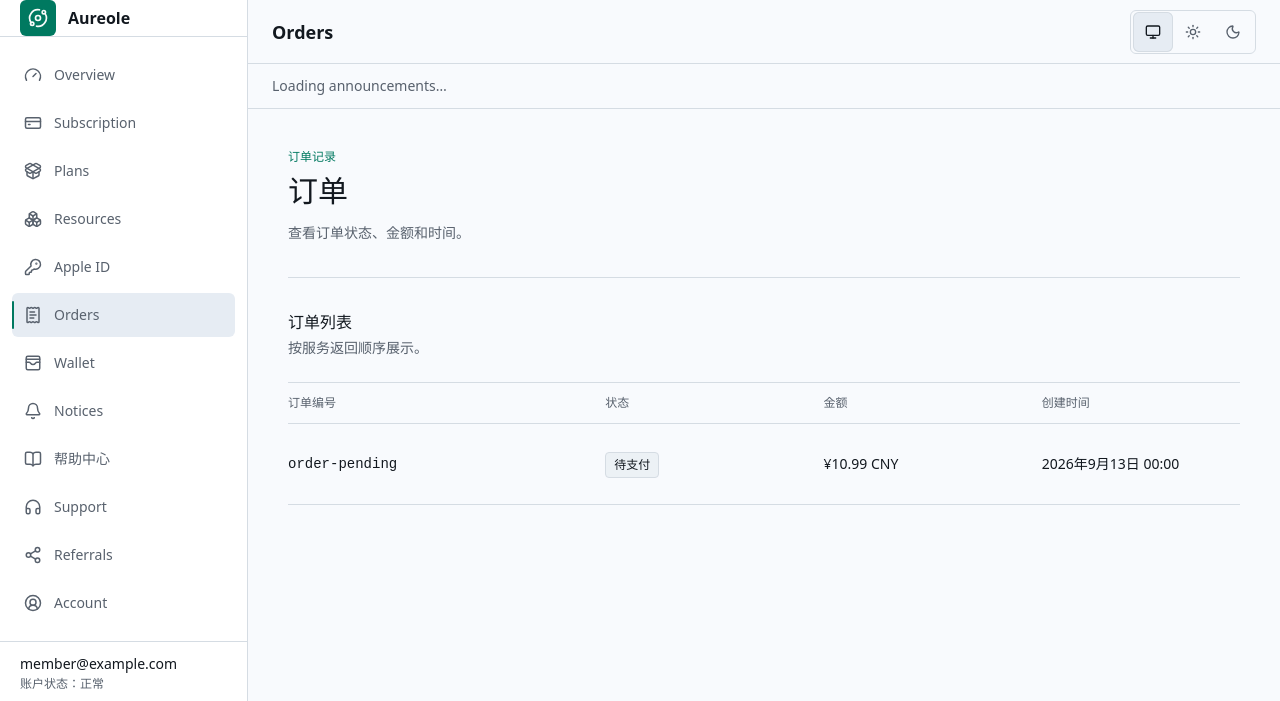
Order Cancel flow › prevents same-tick duplicate Cancel and refreshes Detail/List after success
This screenshot has width=1280, height=701.
What coordinates should you click on to do the following:
click the button "order-pending 待支付 ¥10.99 CNY 2026年9月13日 00:00"
I would click on:
 (343, 464)
Its box is [288, 424, 1240, 504].
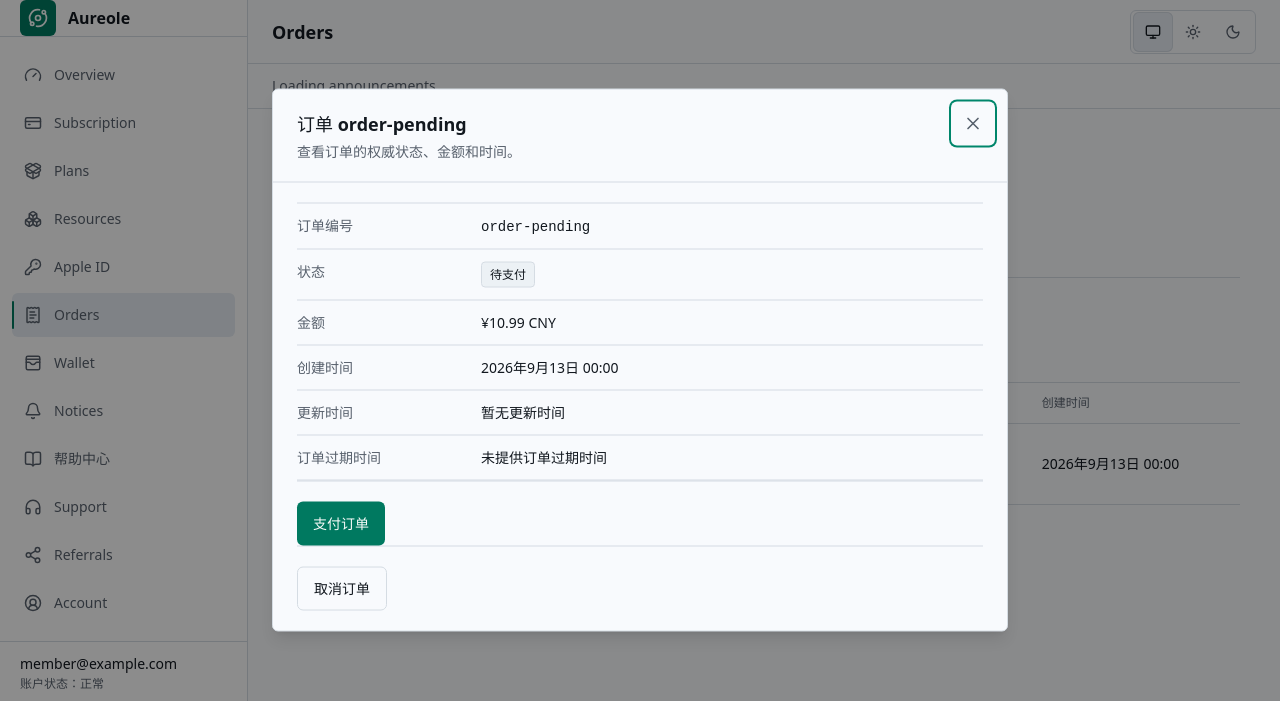
Now the heading "订单 order-pending" is shown, box [297, 112, 467, 136]
What coordinates should you click on to do the following:
click the button "取消订单"
I would click on:
 (342, 588)
Its box is [297, 566, 387, 610].
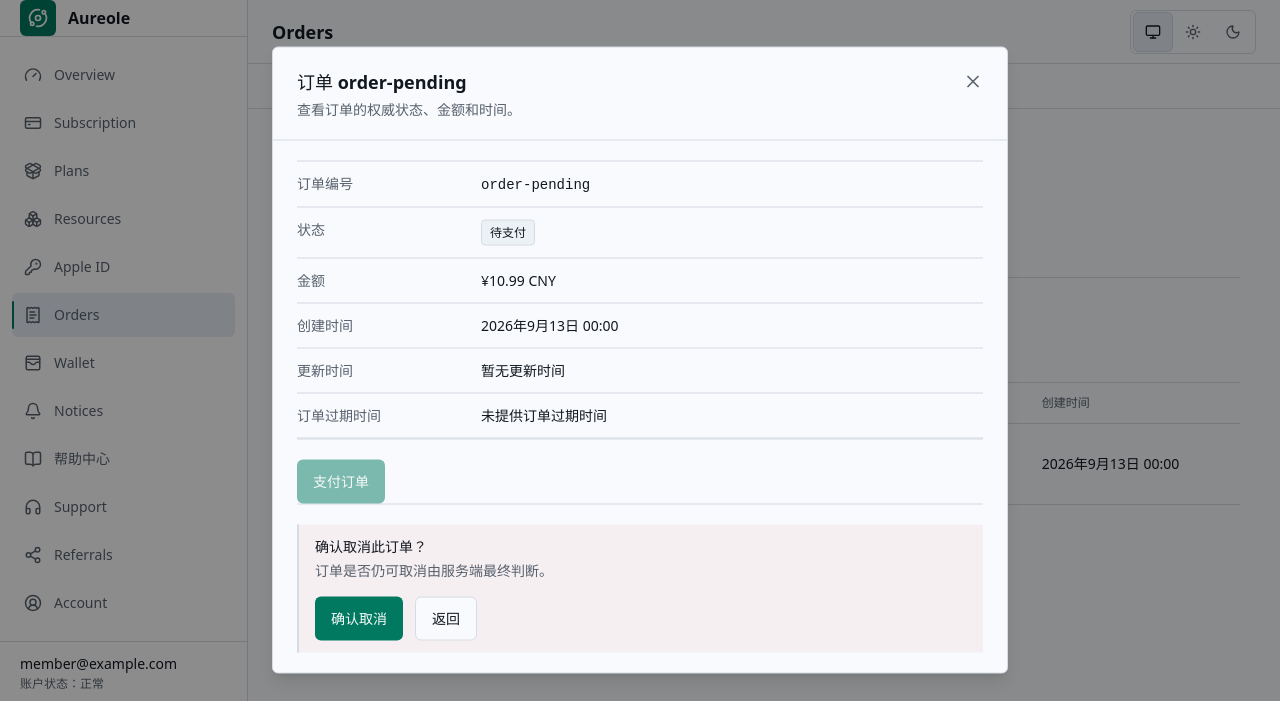
What coordinates should you click on to do the following:
click the button "确认取消"
I would click on:
 (359, 618)
Its box is [315, 596, 403, 640].
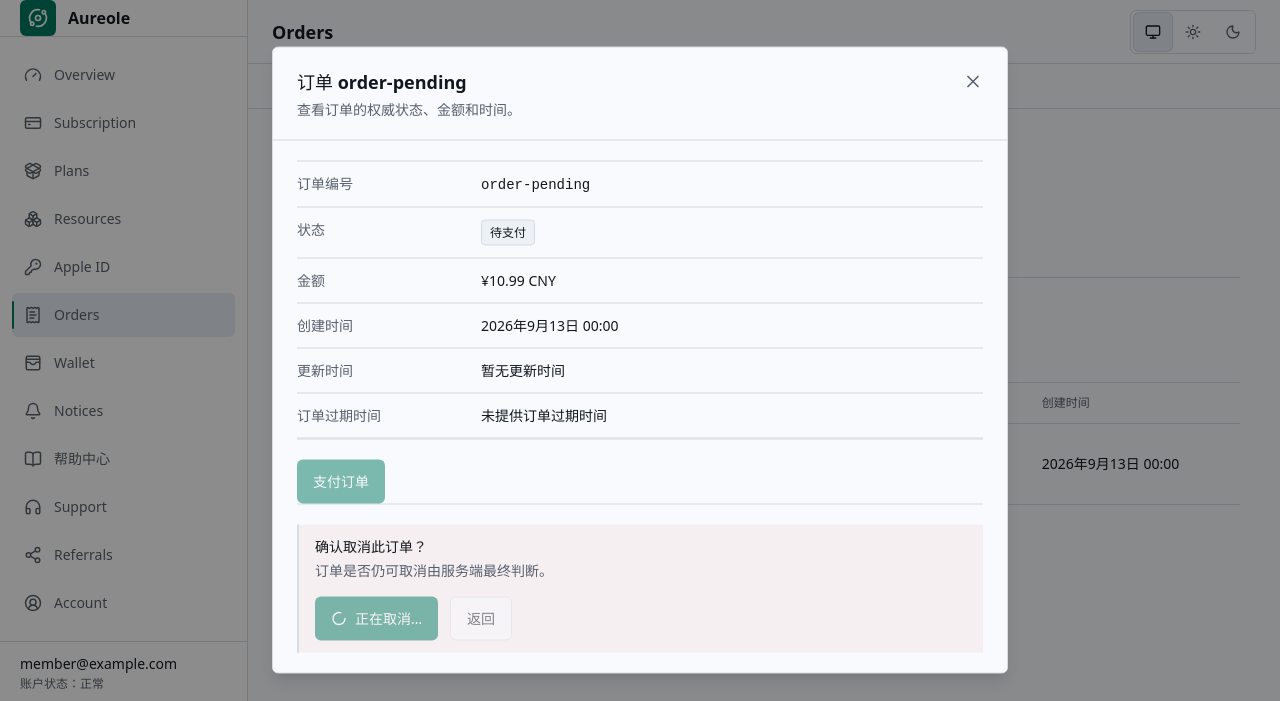
What coordinates should you click on to do the following:
click the button named "确认取消"
I would click on:
 (377, 618)
Its box is [315, 596, 438, 640].
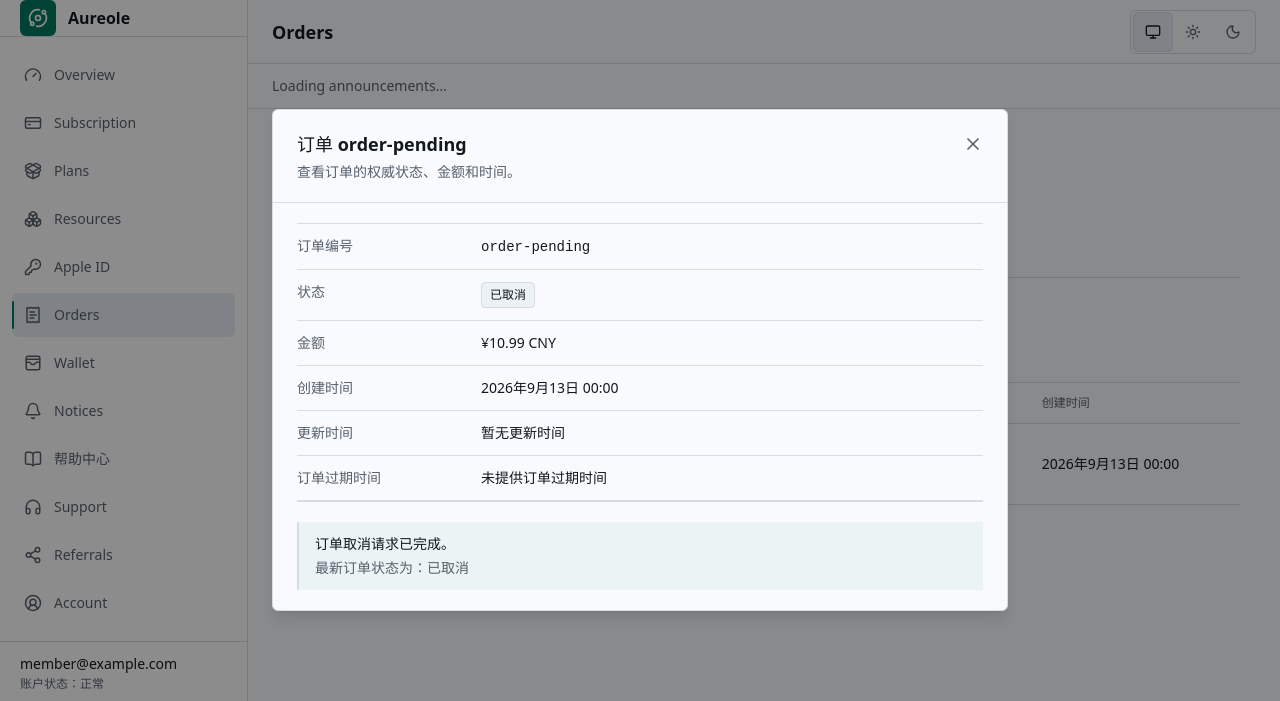
Expected: the button "取消订单" is not shown
Now the text "订单取消请求已完成。" is shown, box [315, 534, 455, 553]
Now the text "最新订单状态为：已取消" is shown, box [315, 558, 469, 577]
